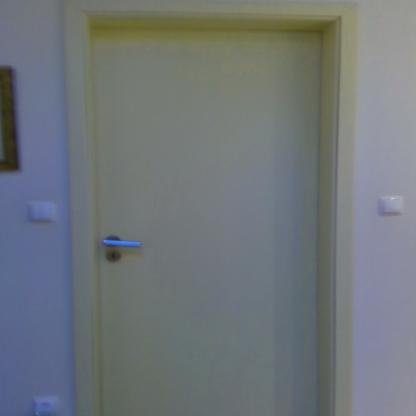door: (90, 28, 325, 416)
lever: (100, 236, 146, 252)
